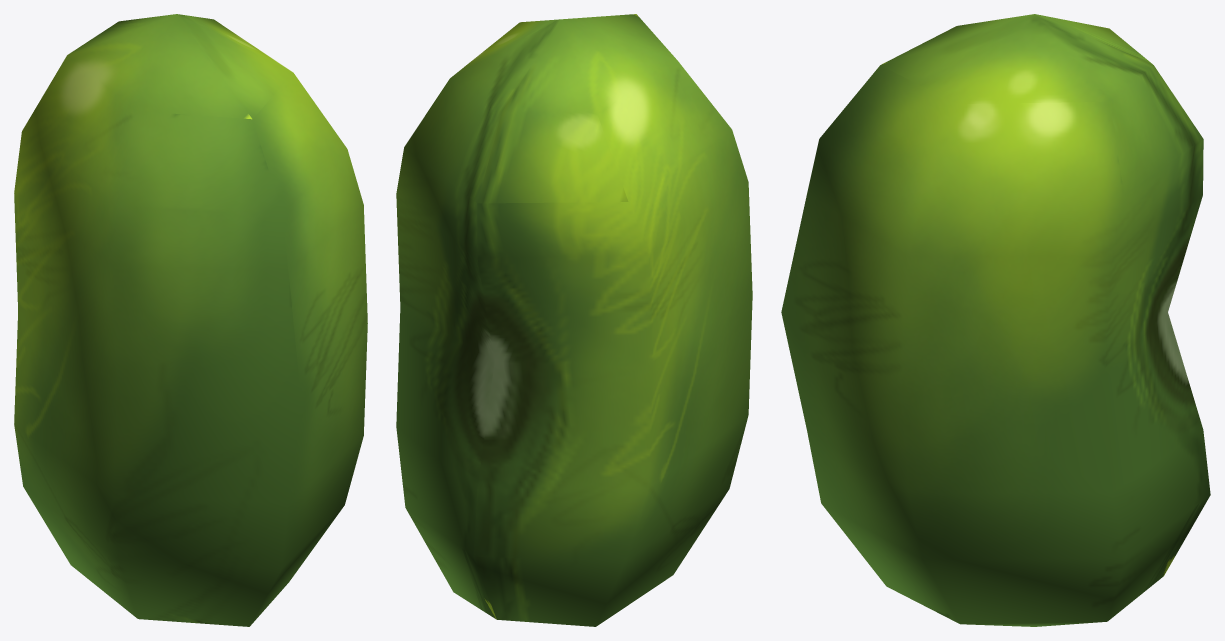
The model's file is Bean.fbx.
3 renders of one model, left to right at view 1: azimuth 30°, elevation 25°; view 2: azimuth 150°, elevation 25°; view 3: azimuth 270°, elevation 25°, orthographic. The views are drawn at different scales.
Visible parts, largest first — view 1: Cylinder; view 2: Cylinder; view 3: Cylinder.
Part boxes in pixels (box(x1,y1,x2,y2)): Cylinder: box(14, 14, 367, 626); Cylinder: box(396, 14, 752, 626); Cylinder: box(781, 14, 1210, 626).
Bounding box in the file's own units: 0.5667 × 1.3 × 0.8234.
